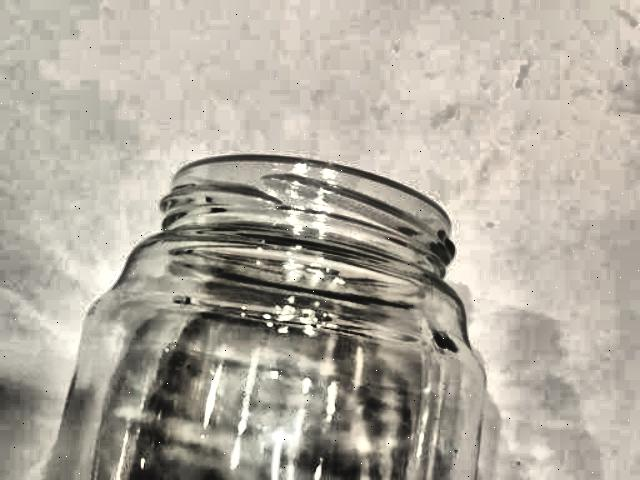Almennt: (16, 130, 512, 480)
